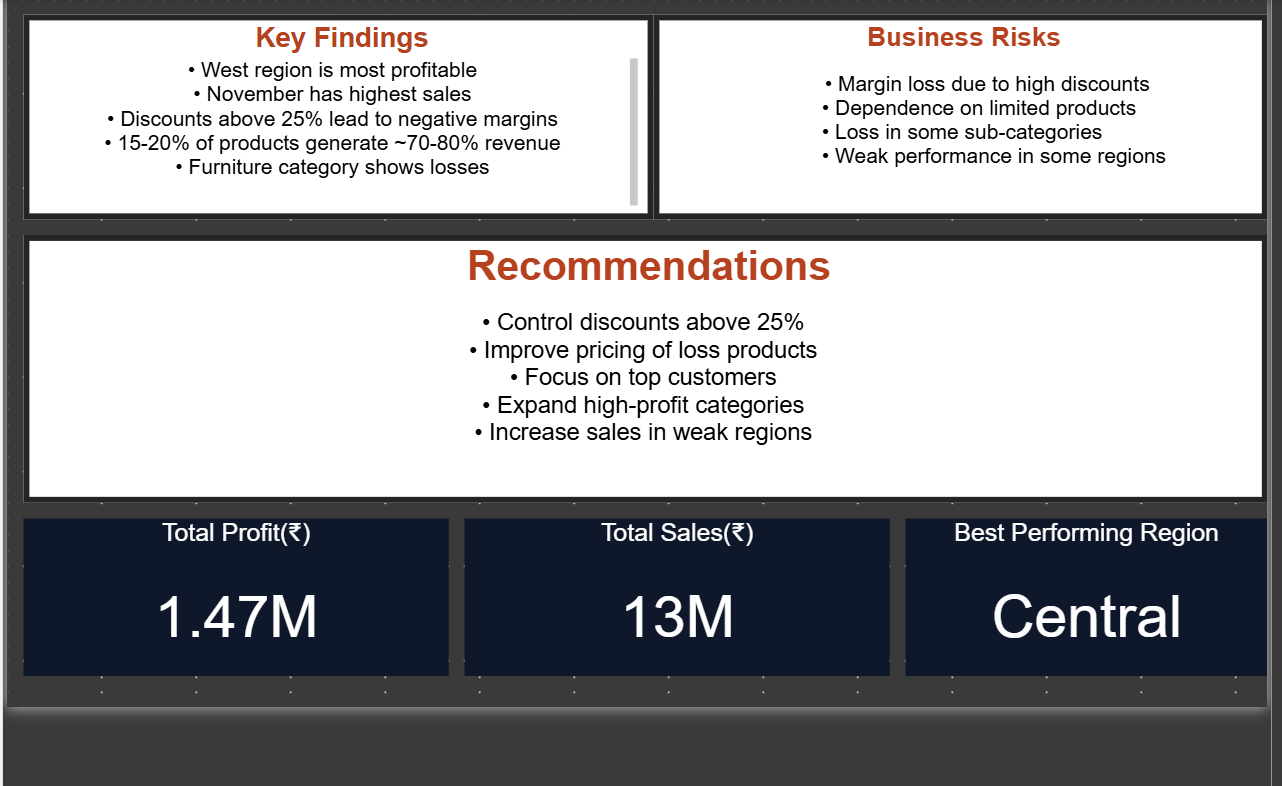

The page's visual inventory and layout, read from the dashboard file:
{"tool":"powerbi","page":{"name":"Insights","canvas":[1280,720],"ordinal":3},"visuals":[{"type":"textbox","title":"Key Findings","box":[16,16,640,208],"z":0},{"type":"textbox","title":"Business Risks","box":[656,16,624,208],"z":1000},{"type":"textbox","title":"Recommendations","box":[16,240,1264,272],"z":2000},{"type":"card","title":"Total Profit(₹)","fields":{"Values":["Sum(Sales csv.profit)"]},"box":[16,528,432,160],"z":3000},{"type":"card","title":"Total Sales(₹)","fields":{"Values":["Sum(Sales csv.sales)"]},"box":[464,528,432,160],"z":4000},{"type":"card","title":"Best Performing Region","fields":{"Values":["Sales csv.Best Region"]},"box":[912,528,368,160],"z":5000}]}

Visuals, with their boxes on the page's 1280x720 design canvas (x1, y1, x2, y2). These are canvas units, not pixel positions in the 1282x786 screenshot, which may show the page scaled, cropped or inside an application window:
"Key Findings" textbox: BBox(16, 16, 656, 224)
"Business Risks" textbox: BBox(656, 16, 1280, 224)
"Recommendations" textbox: BBox(16, 240, 1280, 512)
"Total Profit(₹)" card: BBox(16, 528, 448, 688)
"Total Sales(₹)" card: BBox(464, 528, 896, 688)
"Best Performing Region" card: BBox(912, 528, 1280, 688)
